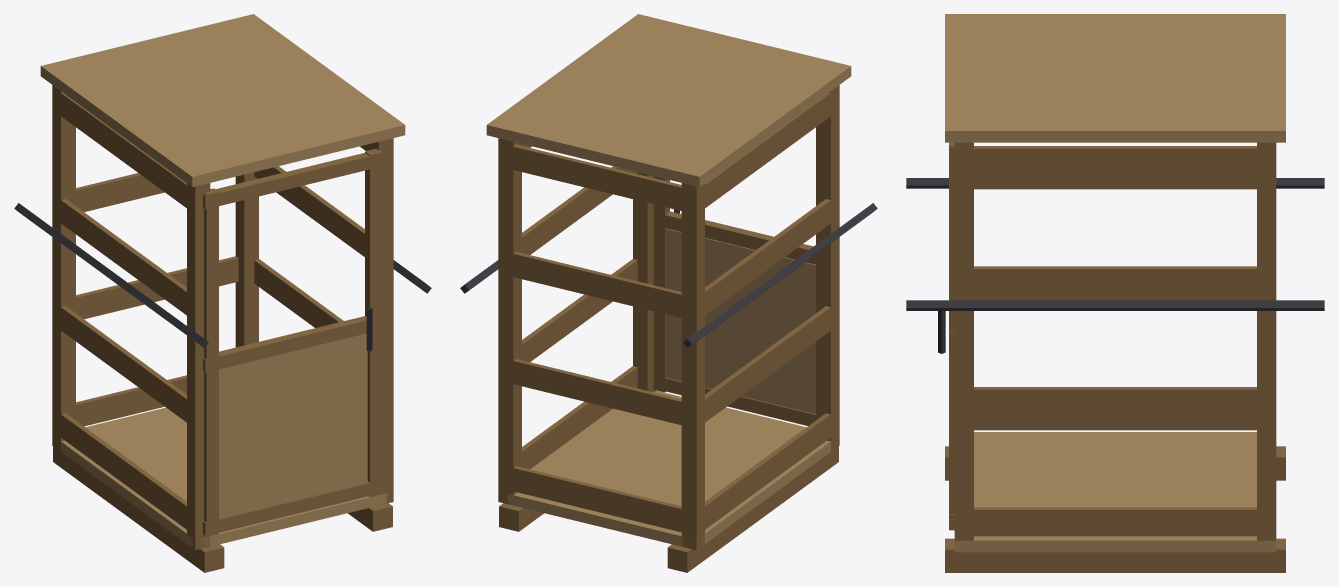
File: Prop_Release_Crate_Closed_LOD1.glb
The picture shows the model from 3 angles, left to right: view 1: azimuth 30°, elevation 25°; view 2: azimuth 150°, elevation 25°; view 3: azimuth 270°, elevation 25°; orthographic projection. The views are drawn at different scales.
Visible parts, largest first — view 1: Prop_Release_Crate_Closed, Prop_Release_Crate_Closed_Door; view 2: Prop_Release_Crate_Closed, Prop_Release_Crate_Closed_Door; view 3: Prop_Release_Crate_Closed, Prop_Release_Crate_Closed_Door.
Part boxes in pixels (x1,y1,x2,y2): Prop_Release_Crate_Closed: [14, 14, 431, 572]; Prop_Release_Crate_Closed_Door: [203, 149, 383, 536]; Prop_Release_Crate_Closed: [460, 14, 877, 572]; Prop_Release_Crate_Closed_Door: [653, 176, 815, 425]; Prop_Release_Crate_Closed: [906, 14, 1324, 572]; Prop_Release_Crate_Closed_Door: [938, 142, 954, 530].
Bounding box in the file's own units: 0.936 × 1.54 × 1.3.
